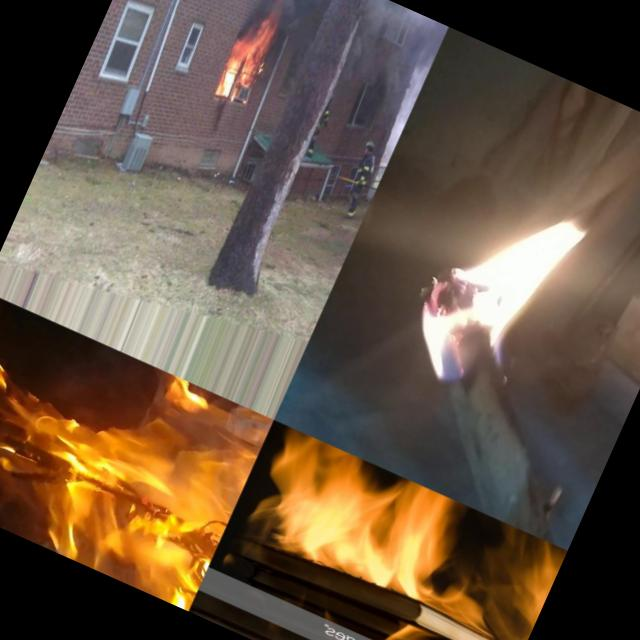fire: (218, 422, 566, 640), (377, 158, 608, 416), (208, 13, 276, 113)
smoke: (334, 0, 447, 117), (236, 0, 338, 57)
